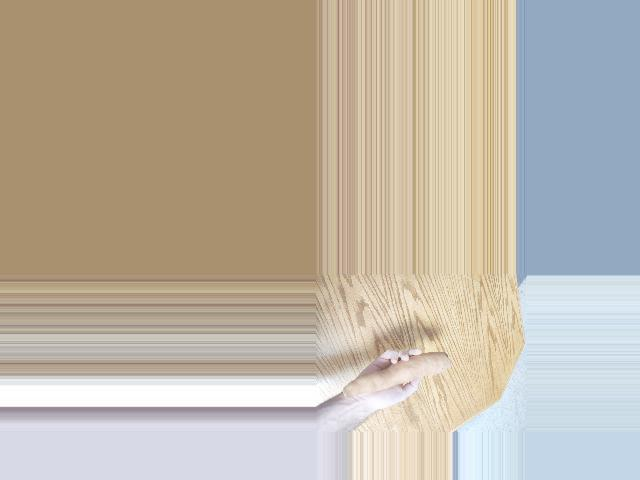sweet_potato: (355, 346, 466, 391)
